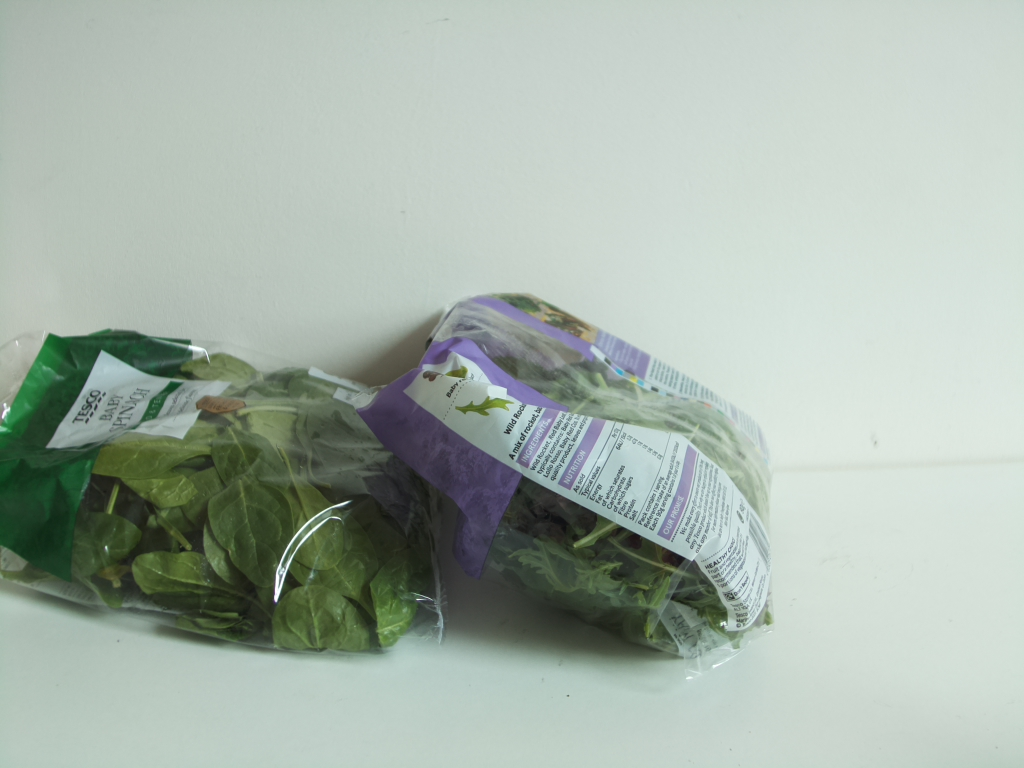salad: (1, 326, 454, 652), (391, 291, 780, 654)
